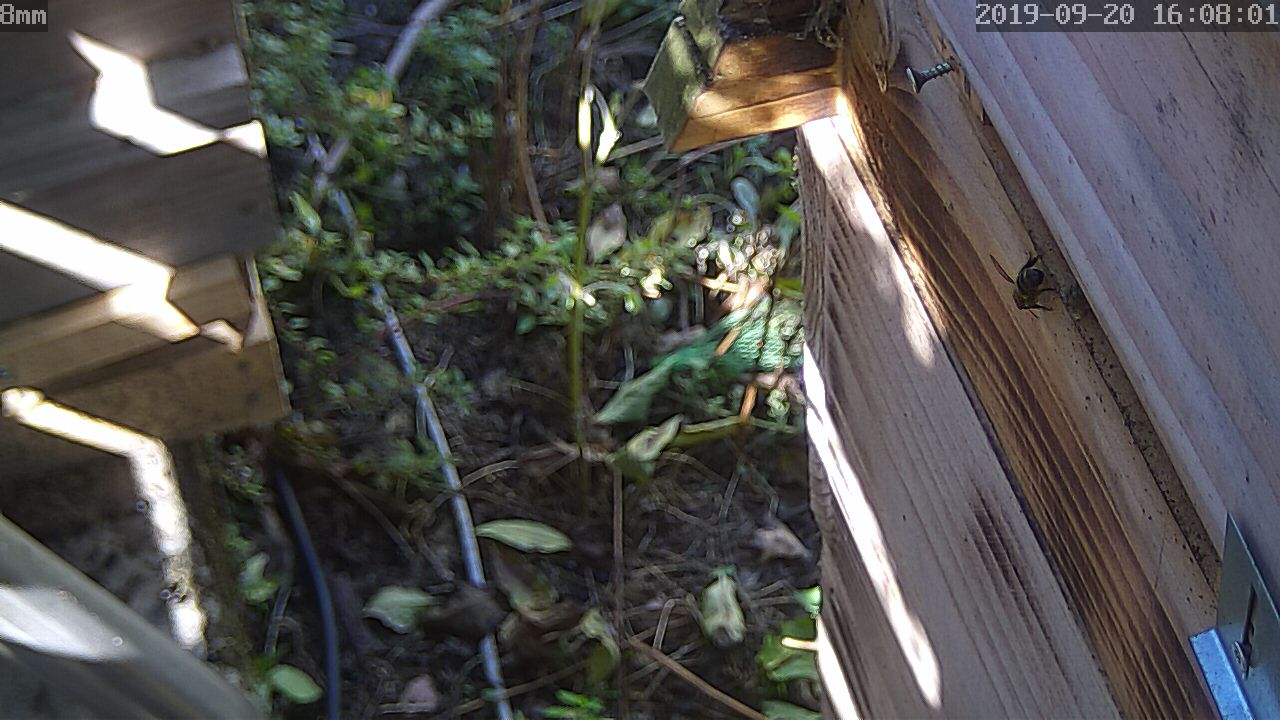bee: (996, 250, 1055, 313)
